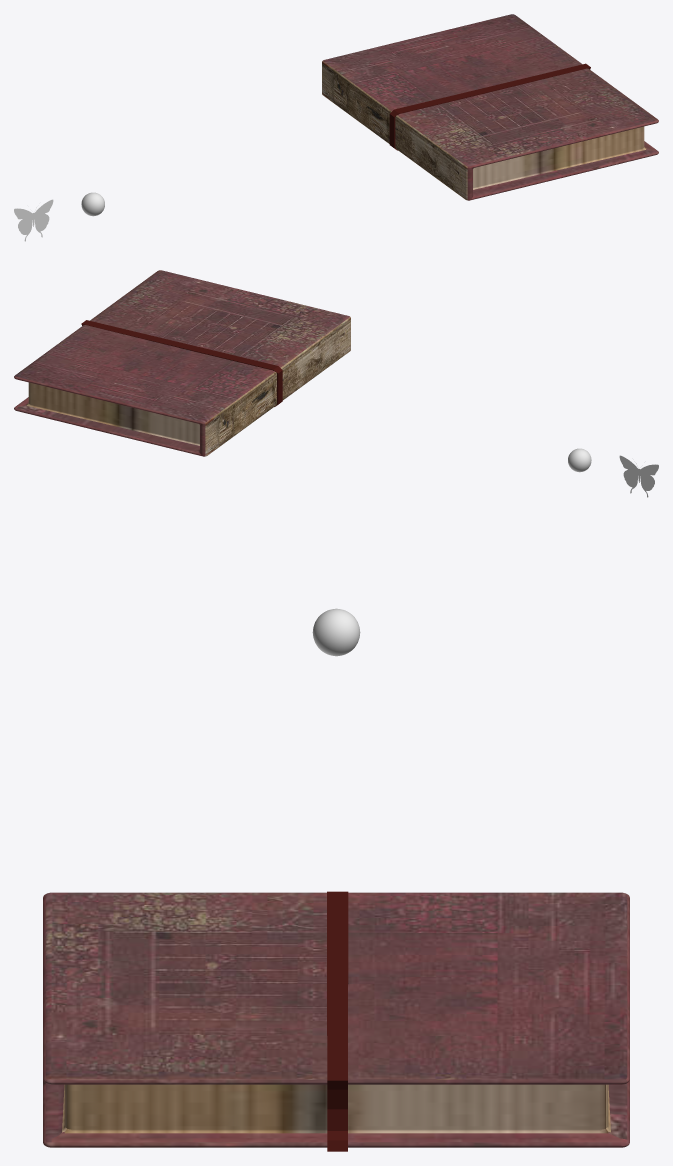
File: items.fbx
3 renders of one model, top to bottom at view 1: azimuth 30°, elevation 25°; view 2: azimuth 150°, elevation 25°; view 3: azimuth 270°, elevation 25°, orthographic. The views are drawn at different scales.
Parts seen in each view (by area): view 1: book1, butterfly, light; view 2: book1, butterfly, light; view 3: book1, light.
Part boxes in pixels (x1,y1,x2,y2): book1: [322, 14, 658, 200]; butterfly: [14, 199, 53, 241]; light: [81, 192, 104, 216]; book1: [14, 270, 350, 456]; butterfly: [619, 455, 658, 497]; light: [568, 448, 591, 472]; book1: [43, 891, 629, 1151]; light: [312, 608, 360, 656].
Bounding box in the file's own units: 453 × 29.5 × 200.
